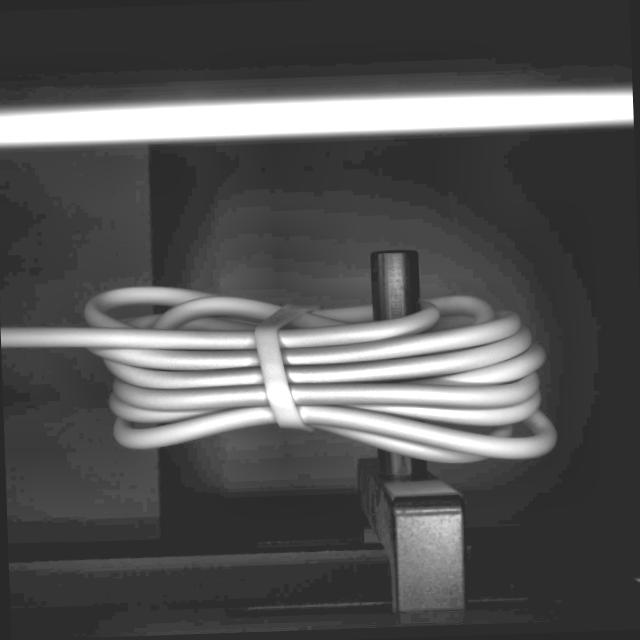Cable: (0, 267, 561, 486)
